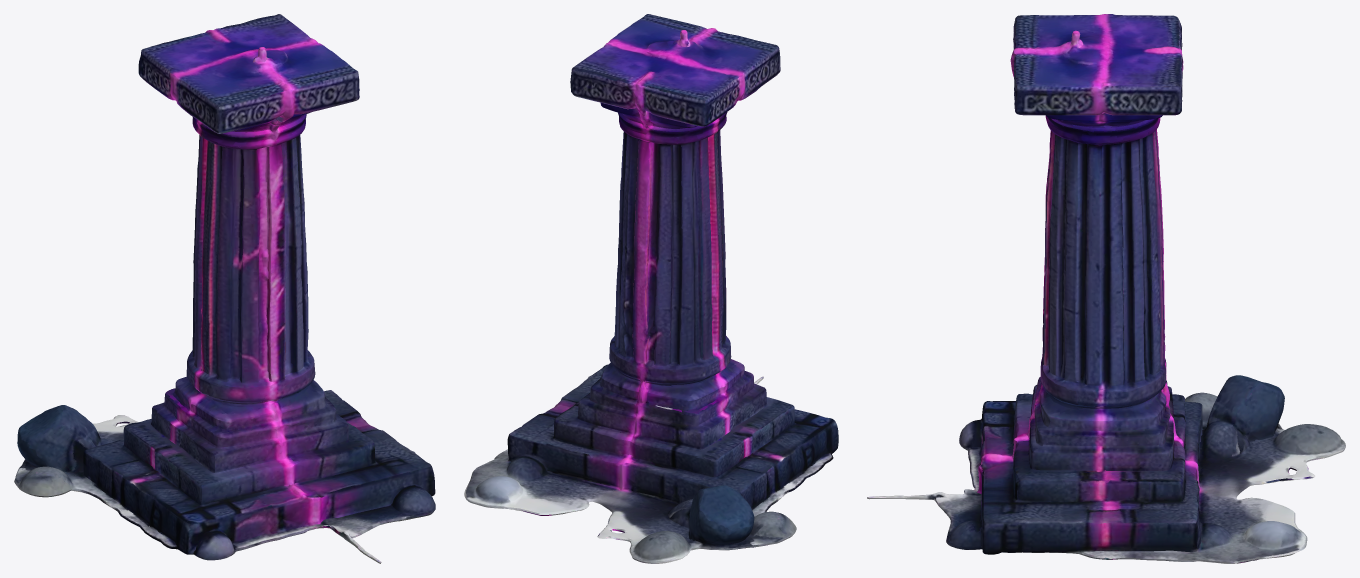
The model's file is support-column-generated-2026-05-17T18-45-11-443Z.medium.glb.
3 views of the same model, side by side, from view 1: azimuth 30°, elevation 25°; view 2: azimuth 150°, elevation 25°; view 3: azimuth 270°, elevation 25° (orthographic). The views are drawn at different scales.
Visible parts, largest first — view 1: temp_mesh.ply; view 2: temp_mesh.ply; view 3: temp_mesh.ply.
Boxes of the visible parts, left/top/right/bottom form: temp_mesh.ply: left=14, top=14, right=435, bottom=563; temp_mesh.ply: left=464, top=14, right=838, bottom=563; temp_mesh.ply: left=867, top=14, right=1345, bottom=563.
Size of the model in its own units: 1.5 by 1.97 by 1.86.
Materials: 1 (1 with a texture image).
